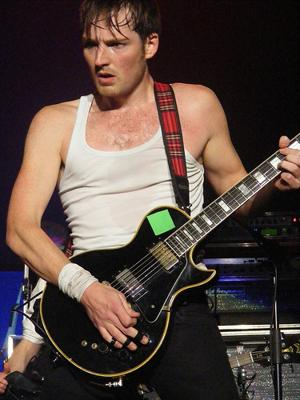person: (6, 3, 299, 398)
